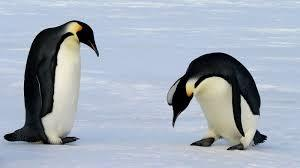emporer: (162, 42, 272, 159), (10, 20, 101, 148)
